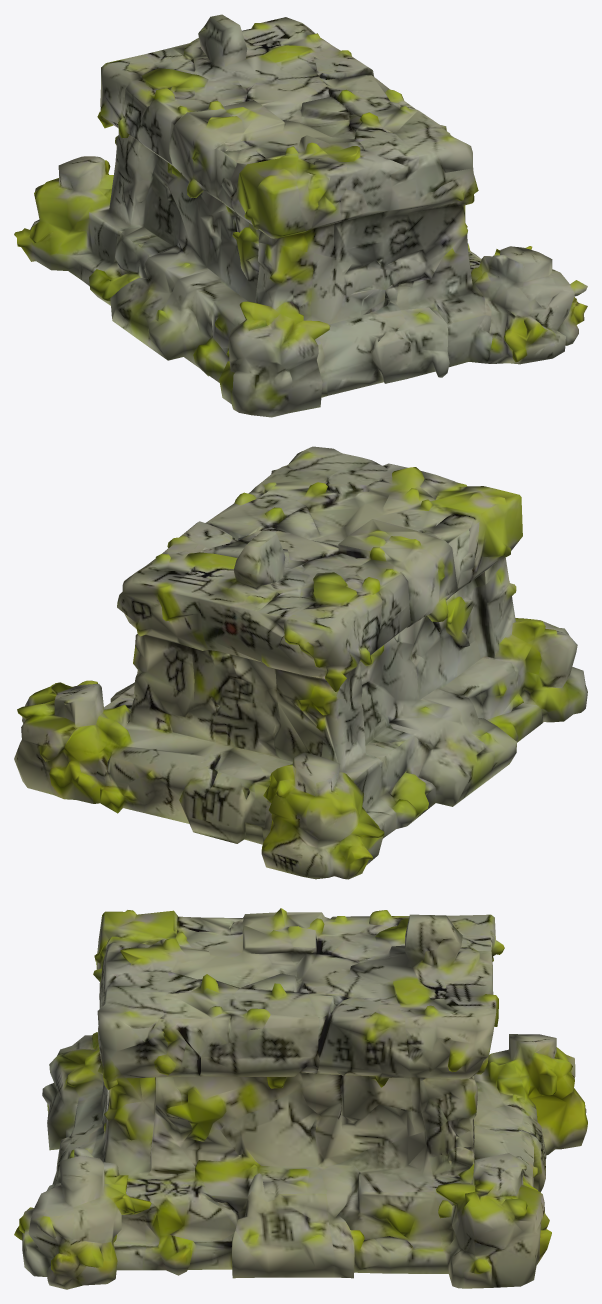
The model's file is ruin_altar.glb.
The picture shows the model from 3 angles, top to bottom: view 1: azimuth 30°, elevation 25°; view 2: azimuth 150°, elevation 25°; view 3: azimuth 270°, elevation 25°; orthographic projection. The views are drawn at different scales.
Parts seen in each view (by area): view 1: tripo_node_b00046ee-0828-4027-8526-d624b12e41bb; view 2: tripo_node_b00046ee-0828-4027-8526-d624b12e41bb; view 3: tripo_node_b00046ee-0828-4027-8526-d624b12e41bb.
Part boxes in pixels (x1=…): tripo_node_b00046ee-0828-4027-8526-d624b12e41bb: x1=14, y1=14, x2=587, y2=417; tripo_node_b00046ee-0828-4027-8526-d624b12e41bb: x1=14, y1=446, x2=587, y2=879; tripo_node_b00046ee-0828-4027-8526-d624b12e41bb: x1=14, y1=908, x2=587, y2=1289.
Bounding box in the file's own units: 0.7956 × 0.5254 × 0.9991.
1 material, 1 textured.
